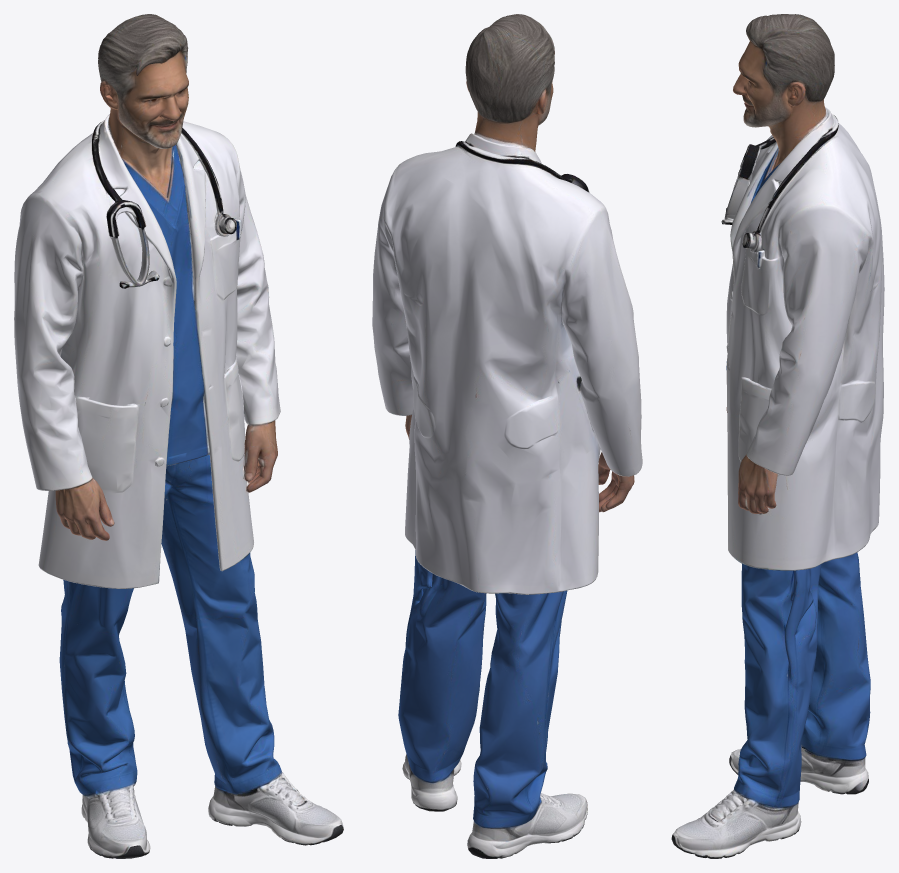
The picture shows the model from 3 angles, left to right: view 1: azimuth 30°, elevation 25°; view 2: azimuth 150°, elevation 25°; view 3: azimuth 270°, elevation 25°; orthographic projection. The views are drawn at different scales.
Visible parts, largest first — view 1: dr5; view 2: dr5; view 3: dr5.
Part boxes in pixels (x1,y1,x2,y2): dr5: (14, 14, 343, 858); dr5: (372, 14, 642, 858); dr5: (671, 14, 884, 858).
Size of the model in its own units: 0.6621 by 1.9 by 0.4722.
Materials: 1 (1 with a texture image).
